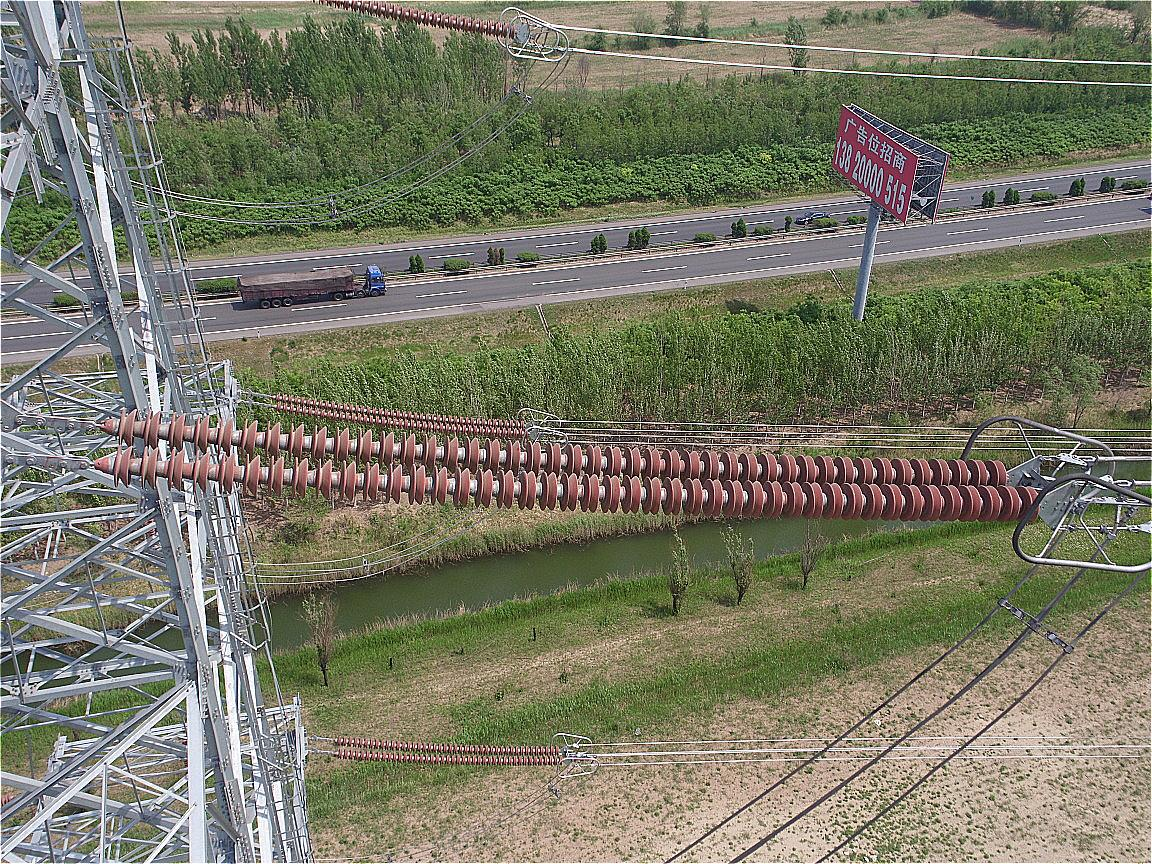insultor2: (91, 390, 1058, 541), (327, 733, 570, 774)
